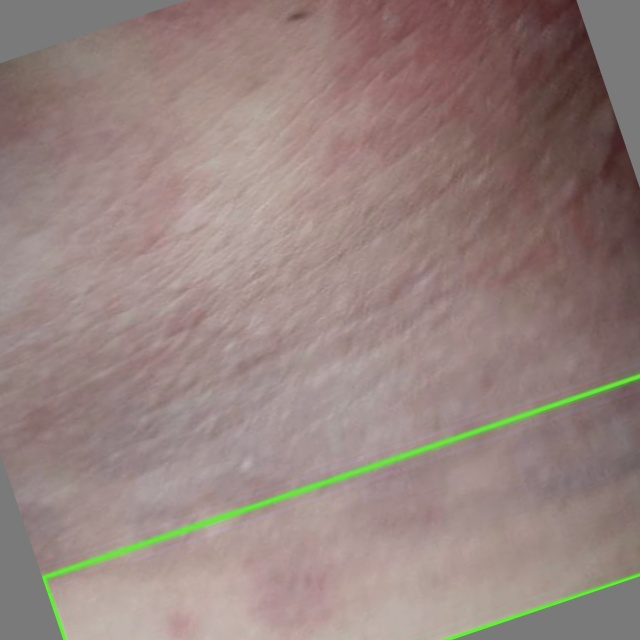Tinea Corporis: (43, 376, 639, 639)
